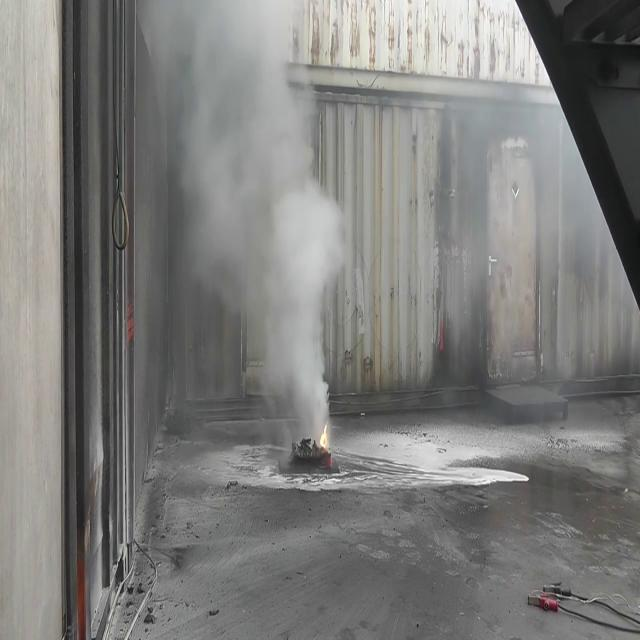Fire: (316, 418, 332, 458)
Smoke: (148, 2, 347, 436)
